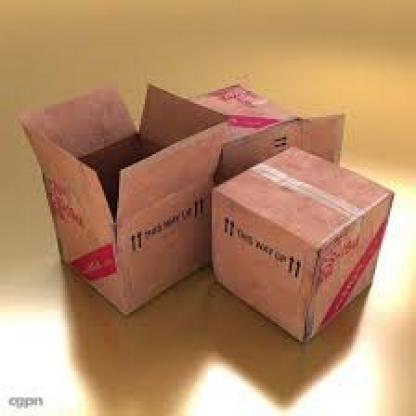box: (15, 80, 223, 314), (210, 143, 394, 342), (190, 78, 344, 189)
